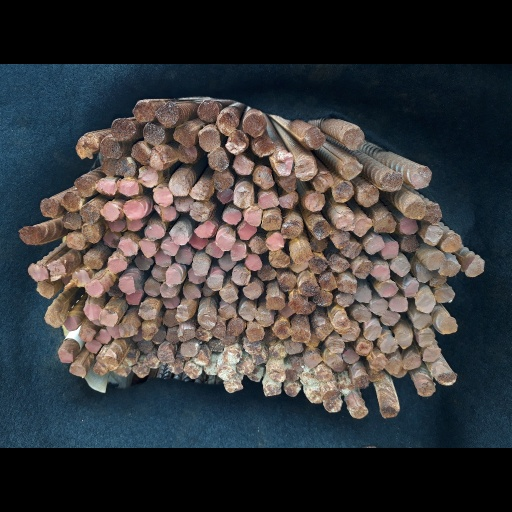dipstick: (302, 124, 325, 151), (156, 102, 179, 127), (295, 156, 318, 180), (76, 136, 99, 159), (243, 114, 266, 137), (271, 152, 293, 176), (199, 128, 221, 151), (142, 123, 164, 145), (112, 119, 135, 140), (133, 100, 154, 122), (197, 101, 219, 122), (209, 148, 229, 171), (339, 160, 363, 179), (150, 145, 168, 170), (357, 185, 378, 206), (343, 128, 364, 149), (173, 125, 193, 147), (218, 112, 238, 134), (228, 131, 248, 153), (138, 166, 158, 188), (254, 165, 273, 188), (252, 138, 275, 157), (416, 291, 435, 314), (18, 226, 42, 244), (169, 176, 189, 197), (212, 171, 234, 190), (74, 178, 96, 197), (374, 213, 396, 232), (190, 183, 214, 200), (413, 166, 430, 190), (100, 138, 120, 158), (234, 155, 254, 175), (465, 257, 485, 277), (333, 181, 353, 201), (382, 171, 402, 191), (153, 186, 172, 207), (282, 220, 303, 239), (133, 142, 151, 164), (116, 157, 135, 177), (81, 204, 100, 224), (337, 275, 357, 294), (123, 201, 144, 219), (117, 179, 139, 196), (336, 212, 355, 231), (314, 173, 333, 192), (233, 190, 253, 208), (40, 198, 58, 218), (62, 212, 82, 230), (66, 232, 86, 250), (259, 191, 279, 209), (305, 193, 325, 211), (425, 225, 443, 245), (405, 200, 425, 218), (328, 256, 349, 273), (377, 281, 398, 298), (62, 193, 81, 211), (312, 220, 330, 239), (442, 234, 461, 252), (244, 206, 261, 226), (425, 203, 442, 223), (154, 205, 175, 221), (107, 257, 128, 273), (390, 259, 411, 275), (178, 145, 196, 163), (280, 192, 299, 209), (217, 232, 234, 251), (266, 232, 283, 251), (365, 236, 384, 253), (221, 210, 241, 226), (288, 299, 308, 315), (292, 247, 312, 263), (418, 327, 434, 347), (230, 269, 251, 284), (102, 203, 119, 221), (190, 204, 208, 221), (120, 239, 137, 257), (99, 309, 117, 326), (331, 231, 349, 248), (355, 218, 372, 236), (426, 252, 444, 269), (171, 226, 187, 245), (28, 264, 47, 280), (47, 263, 66, 279), (184, 361, 200, 380), (270, 252, 289, 268), (399, 218, 418, 234), (237, 224, 257, 239), (342, 242, 362, 257), (345, 321, 359, 342), (439, 261, 460, 275), (279, 174, 296, 191), (440, 317, 457, 334), (415, 264, 432, 281), (83, 225, 99, 243), (223, 348, 241, 364), (256, 310, 274, 326), (280, 274, 296, 292), (250, 236, 266, 254), (320, 273, 336, 291), (354, 262, 372, 278), (97, 180, 116, 195), (145, 226, 164, 241), (262, 215, 281, 230), (83, 254, 102, 269), (243, 283, 262, 298), (45, 312, 65, 326), (299, 281, 319, 295), (139, 241, 156, 257), (161, 240, 178, 256), (228, 319, 245, 335), (370, 355, 387, 371), (310, 257, 327, 273), (336, 292, 353, 308), (364, 324, 381, 340), (401, 235, 418, 251), (104, 232, 122, 247), (196, 222, 214, 237), (190, 235, 208, 250), (291, 327, 309, 342), (422, 347, 440, 362), (436, 287, 454, 302), (383, 241, 398, 259), (245, 328, 264, 342), (313, 291, 332, 305), (414, 314, 433, 328), (37, 282, 53, 298), (118, 277, 134, 293), (165, 269, 181, 285), (237, 358, 253, 374), (239, 305, 255, 321), (317, 323, 333, 339), (334, 318, 350, 334), (355, 287, 371, 303), (371, 298, 387, 314), (381, 337, 397, 353), (72, 271, 89, 286), (135, 255, 152, 270), (139, 305, 156, 320), (180, 342, 197, 357), (198, 312, 215, 327), (219, 255, 236, 270), (418, 381, 435, 396), (372, 265, 389, 280), (174, 197, 192, 211), (183, 285, 201, 299), (258, 267, 276, 281), (350, 405, 368, 419), (323, 354, 342, 367), (381, 312, 400, 325), (389, 298, 408, 311), (221, 287, 237, 302), (231, 244, 246, 260), (274, 324, 290, 339), (353, 372, 368, 388), (387, 357, 403, 372), (396, 332, 411, 348), (404, 354, 420, 369), (437, 372, 457, 384), (86, 282, 103, 296), (78, 327, 95, 341), (163, 310, 177, 327), (405, 280, 418, 298), (303, 354, 322, 366), (324, 400, 343, 412), (207, 243, 222, 258), (84, 303, 99, 318), (207, 275, 222, 290), (307, 389, 322, 404), (102, 160, 116, 176), (216, 189, 232, 203), (144, 282, 160, 296), (102, 356, 118, 370), (158, 349, 174, 363), (219, 305, 235, 319), (247, 254, 261, 270), (284, 383, 300, 397), (328, 339, 344, 353), (178, 329, 195, 342), (218, 367, 235, 380), (270, 346, 287, 359), (266, 296, 283, 309), (353, 309, 370, 322), (108, 220, 126, 232), (224, 380, 242, 392), (285, 341, 303, 353), (381, 405, 399, 417), (155, 253, 170, 267), (176, 250, 191, 264), (193, 262, 207, 277), (58, 349, 73, 363), (357, 341, 371, 356), (152, 266, 165, 282), (70, 364, 86, 377), (119, 324, 136, 336), (160, 285, 177, 297), (323, 389, 340, 401), (315, 369, 332, 381), (310, 239, 327, 251), (123, 352, 137, 366), (194, 350, 208, 364), (249, 367, 263, 381), (126, 291, 141, 304), (142, 325, 157, 338), (143, 355, 158, 368), (270, 369, 285, 382), (283, 369, 298, 382), (343, 351, 358, 364), (339, 380, 352, 395), (85, 341, 101, 353), (188, 271, 204, 283), (264, 383, 280, 395), (430, 275, 446, 287), (126, 220, 143, 231), (96, 330, 110, 343), (153, 330, 166, 344), (209, 339, 223, 352), (252, 351, 266, 364), (304, 374, 318, 387), (64, 316, 76, 331), (133, 364, 148, 376), (245, 341, 260, 353), (290, 263, 308, 273), (115, 365, 131, 376), (369, 370, 385, 381), (176, 306, 188, 320), (197, 328, 211, 340), (214, 325, 226, 339), (163, 298, 179, 308), (170, 360, 182, 373), (138, 340, 152, 351), (107, 327, 119, 339), (93, 363, 106, 374), (280, 306, 293, 317), (167, 330, 177, 344), (203, 364, 217, 374), (310, 334, 318, 346), (202, 286, 211, 296)
